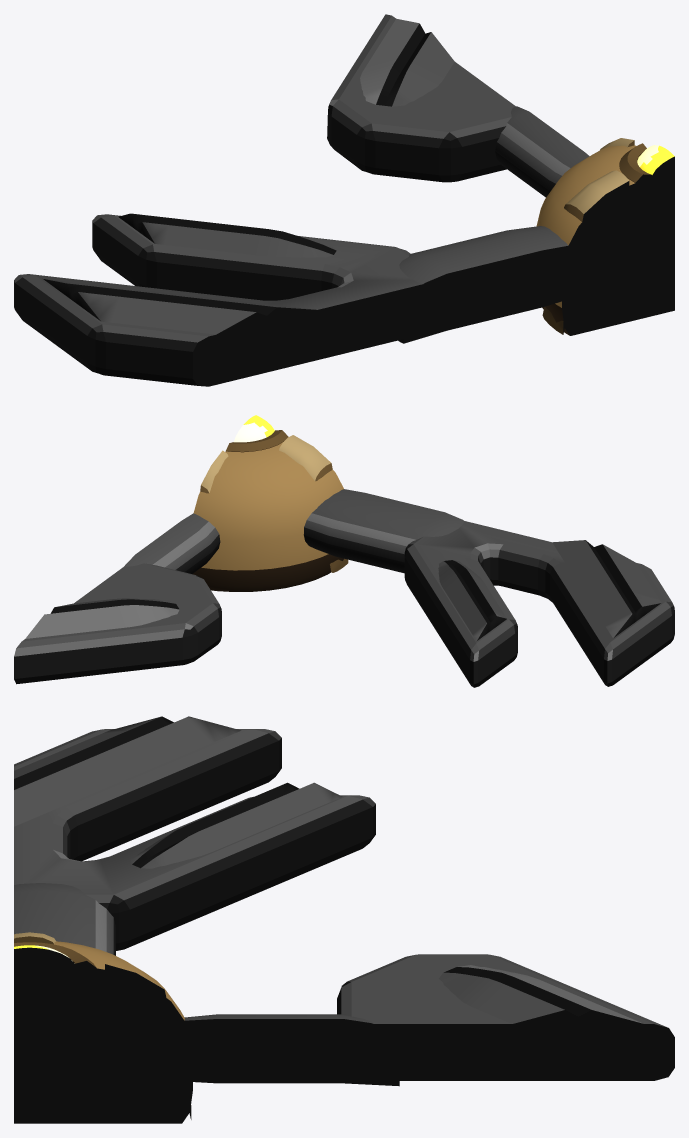
File: spin_claw_81.glb
3 renders of one model, top to bottom at view 1: azimuth 30°, elevation 25°; view 2: azimuth 150°, elevation 25°; view 3: azimuth 270°, elevation 25°, orthographic. The views are drawn at different scales.
Visible parts, largest first — view 1: spin_claw_81_arm3_plate, spin_claw_81_hub_dome, spin_claw_81_arm0_plate, spin_claw_81_arm3_rod, spin_claw_81_arm3_ridge0, spin_claw_81_arm0_ridge0, spin_claw_81_arm3_ridge1, spin_claw_81_arm0_rod, spin_claw_81_hub_rib3, spin_claw_81_hub_lens, spin_claw_81_hub_bezel; view 2: spin_claw_81_arm3_plate, spin_claw_81_hub_dome, spin_claw_81_arm0_plate, spin_claw_81_arm3_rod, spin_claw_81_arm3_ridge0, spin_claw_81_arm0_ridge0, spin_claw_81_arm0_rod, spin_claw_81_arm3_ridge1, spin_claw_81_hub_rib3, spin_claw_81_hub_lens, spin_claw_81_hub_bezel, spin_claw_81_hub_rib0; view 3: spin_claw_81_arm3_plate, spin_claw_81_arm0_plate, spin_claw_81_hub_dome, spin_claw_81_arm0_rod, spin_claw_81_arm3_ridge0, spin_claw_81_arm0_ridge0, spin_claw_81_arm3_ridge1, spin_claw_81_arm3_rod, spin_claw_81_hub_lens, spin_claw_81_hub_bezel, spin_claw_81_hub_rib0.
Part boxes in pixels (x1,y1,x2,y2): spin_claw_81_arm3_plate: (14, 214, 451, 386); spin_claw_81_hub_dome: (536, 145, 674, 335); spin_claw_81_arm0_plate: (327, 14, 515, 182); spin_claw_81_arm3_rod: (398, 226, 605, 343); spin_claw_81_arm3_ridge0: (43, 279, 325, 345); spin_claw_81_arm0_ridge0: (360, 18, 454, 106); spin_claw_81_arm3_ridge1: (118, 213, 336, 257); spin_claw_81_arm0_rod: (495, 106, 589, 197); spin_claw_81_hub_rib3: (542, 170, 629, 334); spin_claw_81_hub_lens: (637, 145, 674, 191); spin_claw_81_hub_bezel: (619, 143, 674, 192); spin_claw_81_arm3_plate: (404, 521, 674, 687); spin_claw_81_hub_dome: (192, 442, 343, 591); spin_claw_81_arm0_plate: (14, 563, 221, 684); spin_claw_81_arm3_rod: (303, 489, 464, 573); spin_claw_81_arm3_ridge0: (552, 540, 661, 638); spin_claw_81_arm0_ridge0: (25, 598, 179, 638); spin_claw_81_arm0_rod: (124, 513, 220, 573); spin_claw_81_arm3_ridge1: (438, 560, 506, 640); spin_claw_81_hub_rib3: (279, 435, 348, 572); spin_claw_81_hub_lens: (234, 415, 274, 442); spin_claw_81_hub_bezel: (226, 430, 288, 452); spin_claw_81_hub_rib0: (200, 450, 228, 493); spin_claw_81_arm3_plate: (14, 729, 375, 950); spin_claw_81_arm0_plate: (337, 954, 674, 1080); spin_claw_81_hub_dome: (14, 941, 192, 1123); spin_claw_81_arm0_rod: (136, 1014, 399, 1086); spin_claw_81_arm3_ridge0: (14, 716, 241, 826); spin_claw_81_arm0_ridge0: (438, 965, 657, 1034); spin_claw_81_arm3_ridge1: (131, 782, 342, 868); spin_claw_81_arm3_rod: (14, 883, 115, 955); spin_claw_81_hub_lens: (14, 945, 76, 981); spin_claw_81_hub_bezel: (14, 942, 96, 979); spin_claw_81_hub_rib0: (105, 964, 191, 1119).
Bounding box in the file's own units: 22.7 × 6.19 × 21.08.
